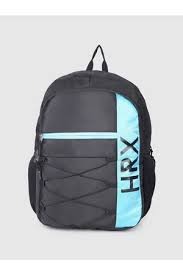backpack: (27, 44, 156, 231)
